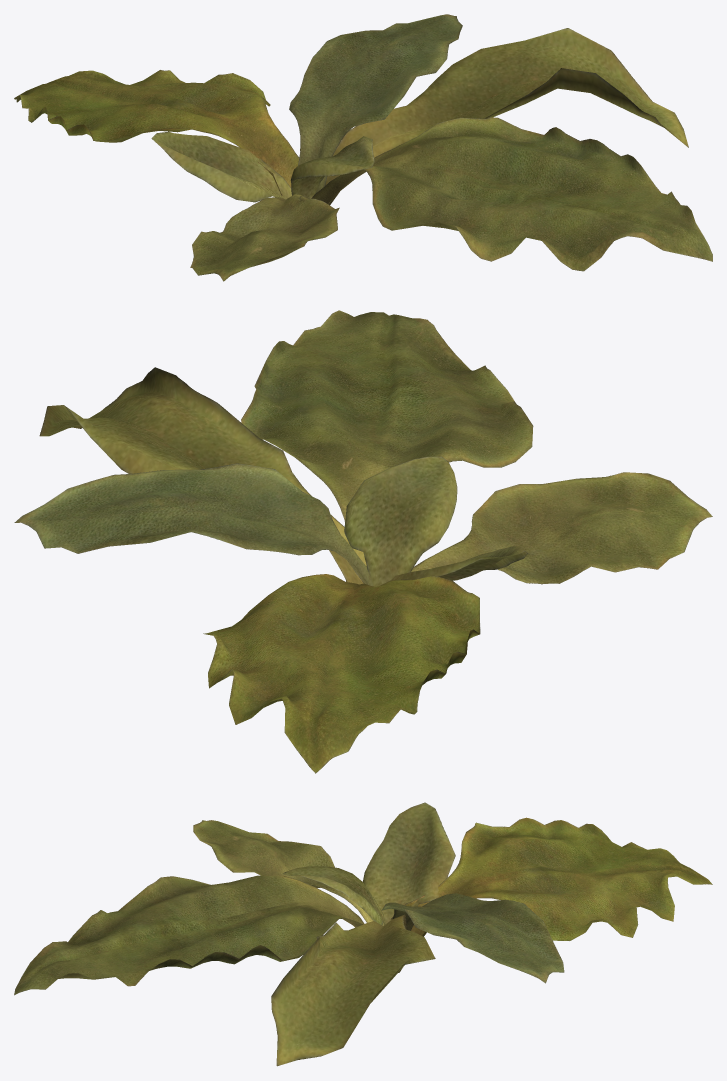
Rendered from crystalline_iceplant_01.glb.
3 renders of one model, top to bottom at view 1: azimuth 30°, elevation 25°; view 2: azimuth 150°, elevation 25°; view 3: azimuth 270°, elevation 25°, orthographic. The views are drawn at different scales.
Visible parts, largest first — view 1: crystalline_iceplant; view 2: crystalline_iceplant; view 3: crystalline_iceplant.
Boxes of the visible parts, box(x1,y1,x2,y2) form: crystalline_iceplant: box(14, 14, 712, 281); crystalline_iceplant: box(14, 310, 712, 773); crystalline_iceplant: box(14, 802, 712, 1066).
Size of the model in its own units: 0.1437 by 0.038 by 0.1827.
Materials: 1 (1 with a texture image).
